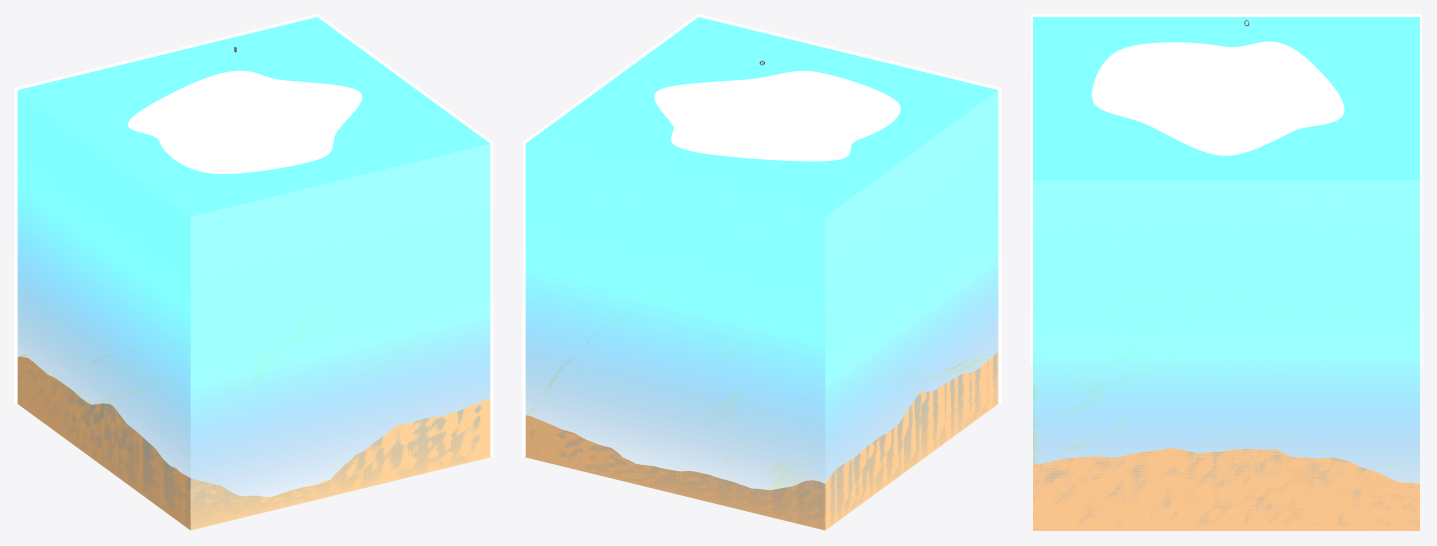
Rendered from sea.glb.
The picture shows the model from 3 angles, left to right: view 1: azimuth 30°, elevation 25°; view 2: azimuth 150°, elevation 25°; view 3: azimuth 270°, elevation 25°; orthographic projection. The views are drawn at different scales.
Parts seen in each view (by area): view 1: object 2, Landscape_2; view 2: object 2, Landscape_2; view 3: object 2, Landscape_2.
Part boxes in pixels (<box>): object 2: <box>14,14,493,512</box>; Landscape_2: <box>17,294,490,530</box>; object 2: <box>522,14,1001,510</box>; Landscape_2: <box>525,292,998,530</box>; object 2: <box>1030,14,1422,506</box>; Landscape_2: <box>1033,308,1419,530</box>.
Bounding box in the file's own units: 22.74 × 27.09 × 22.74.
Materials: 6 (2 with a texture image).
